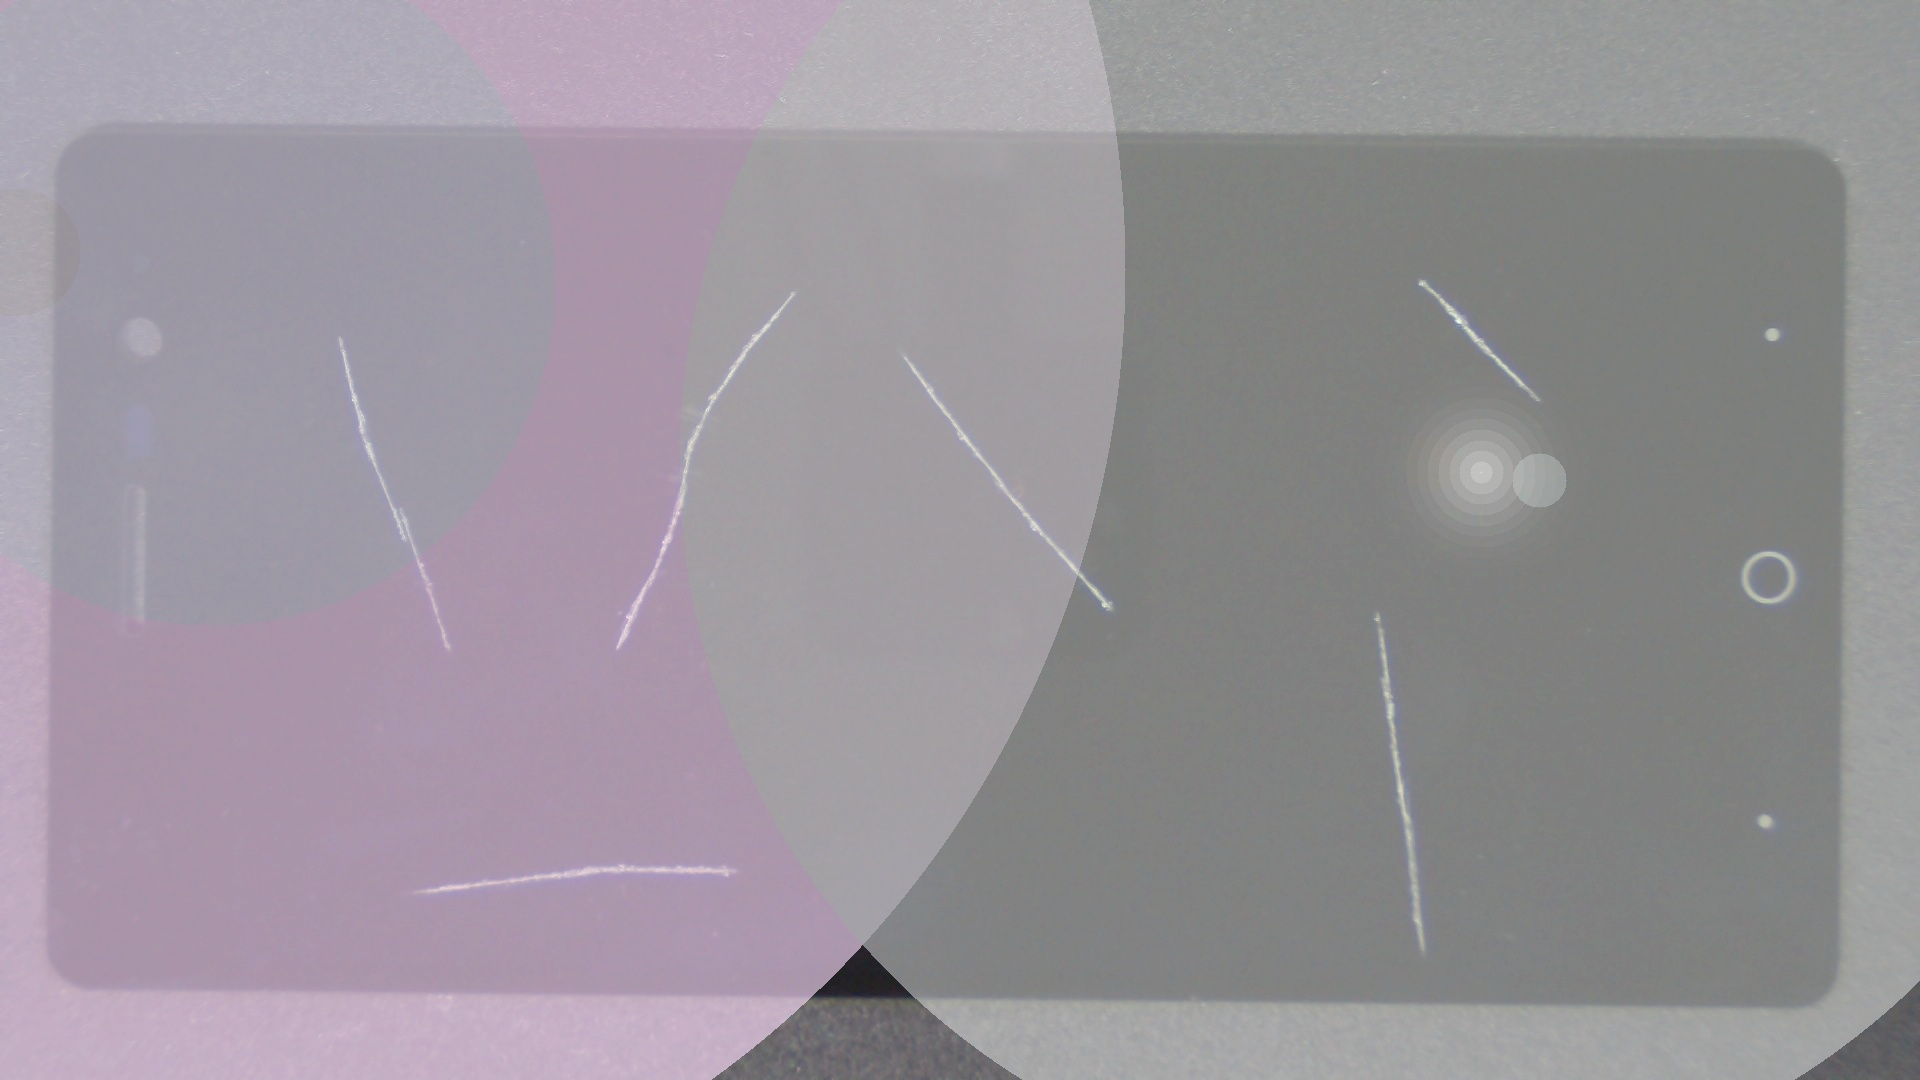oil: (687, 303, 1920, 913), (311, 430, 931, 1080), (711, 138, 1920, 415), (451, 175, 1352, 527), (398, 144, 1192, 434), (171, 166, 512, 501)
